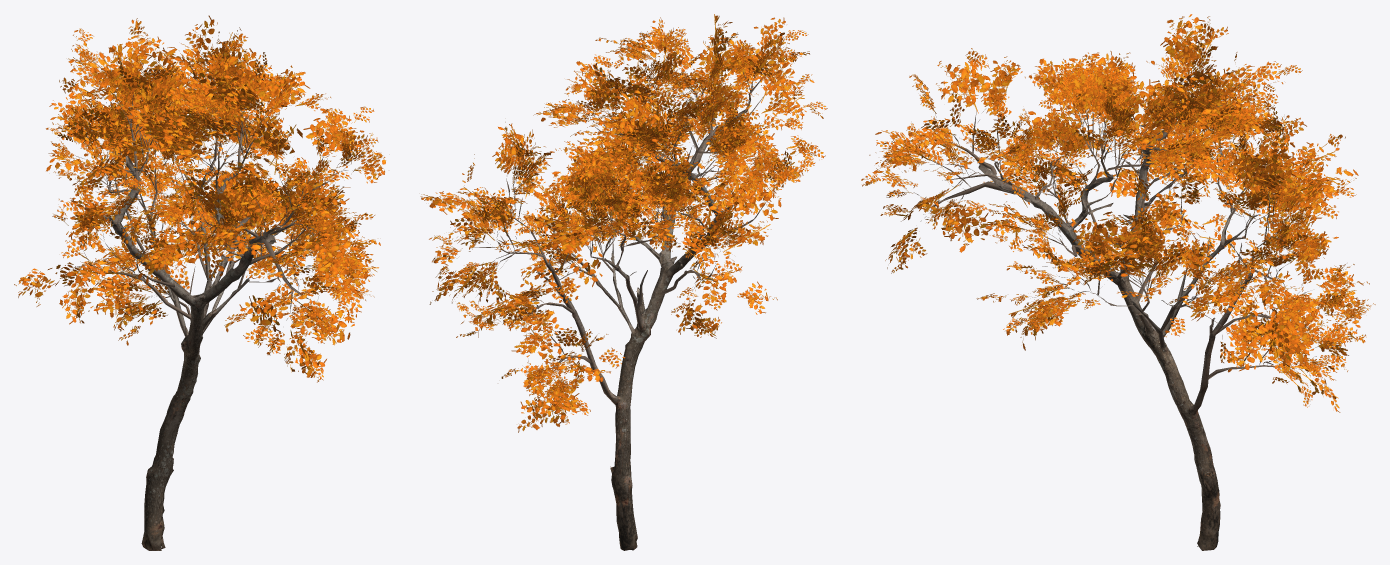
File: tree_near.gltf
3 views of the same model, side by side, from view 1: azimuth 30°, elevation 25°; view 2: azimuth 150°, elevation 25°; view 3: azimuth 270°, elevation 25° (orthographic). The views are drawn at different scales.
Visible parts, largest first — view 1: tree_leaves, tree_small_02_LOD0.003, tree_small_02_LOD0.001; view 2: tree_leaves, tree_small_02_LOD0.003, tree_small_02_LOD0.001; view 3: tree_leaves, tree_small_02_LOD0.003, tree_small_02_LOD0.001.
Boxes of the visible parts, x1,y1,x2,y2 form: tree_leaves: [14, 15, 385, 382]; tree_small_02_LOD0.003: [84, 156, 296, 550]; tree_small_02_LOD0.001: [73, 59, 347, 328]; tree_leaves: [420, 14, 827, 432]; tree_small_02_LOD0.003: [530, 117, 741, 550]; tree_small_02_LOD0.001: [464, 38, 785, 378]; tree_leaves: [861, 14, 1375, 412]; tree_small_02_LOD0.003: [978, 125, 1254, 550]; tree_small_02_LOD0.001: [897, 79, 1351, 380].
Size of the model in its own units: 2.98 by 4.61 by 4.34.
3 materials, 3 textured.
